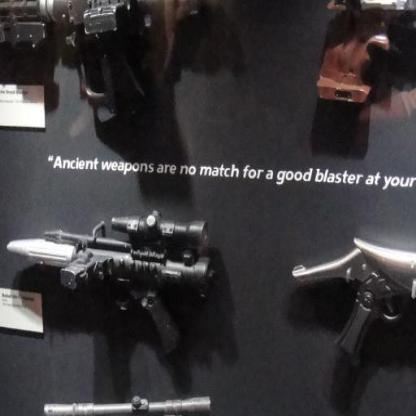gun: (0, 0, 215, 133), (21, 212, 213, 353), (290, 237, 415, 367), (320, 0, 415, 99)
